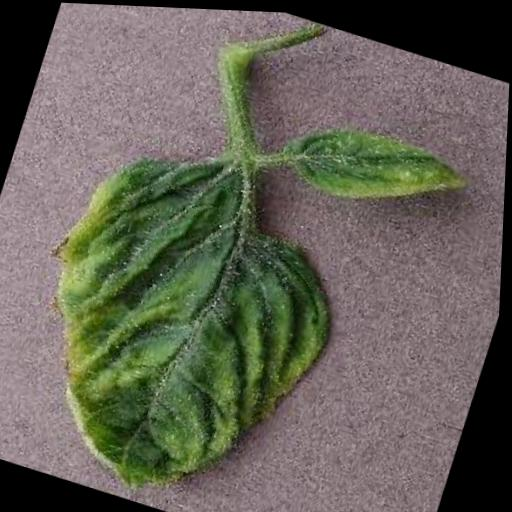Yellow Leaf Curl Virus: (0, 107, 378, 512)
